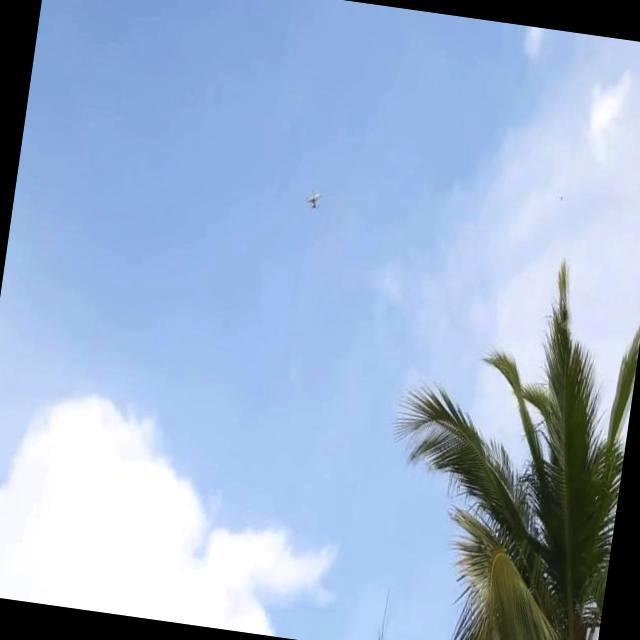drone: (304, 182, 325, 214)
